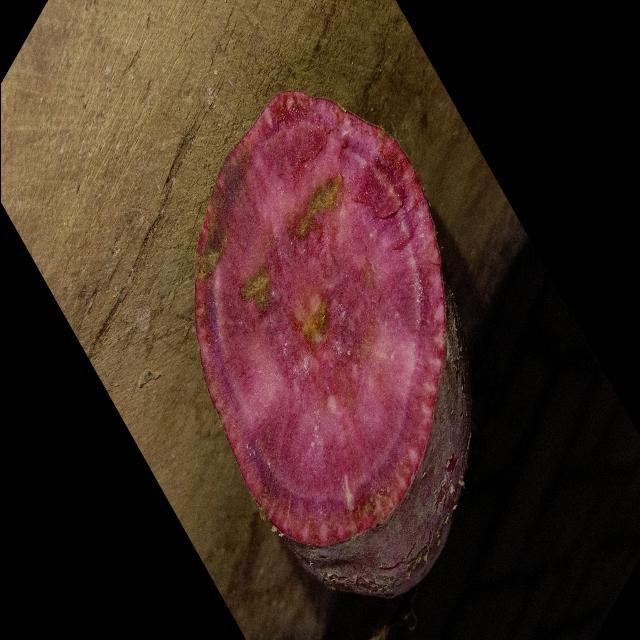Sick Sweet Potato_Tuber Rot: (194, 91, 445, 547)
